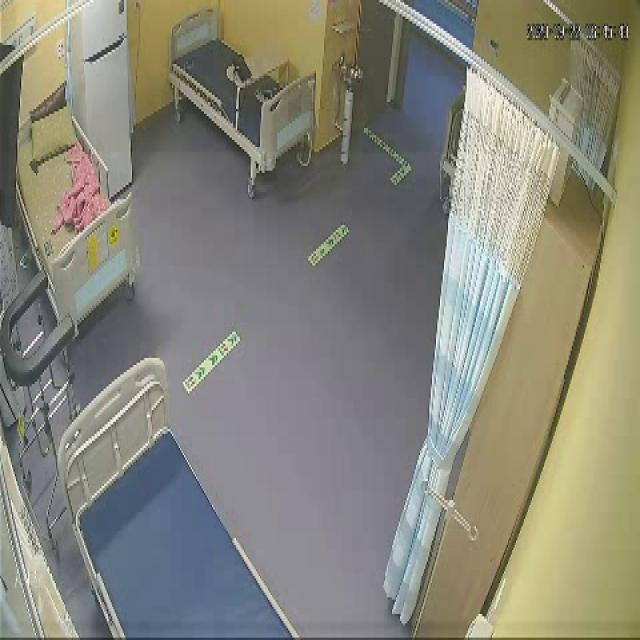bed: (56, 358, 298, 638), (14, 96, 143, 326), (167, 6, 317, 174)
